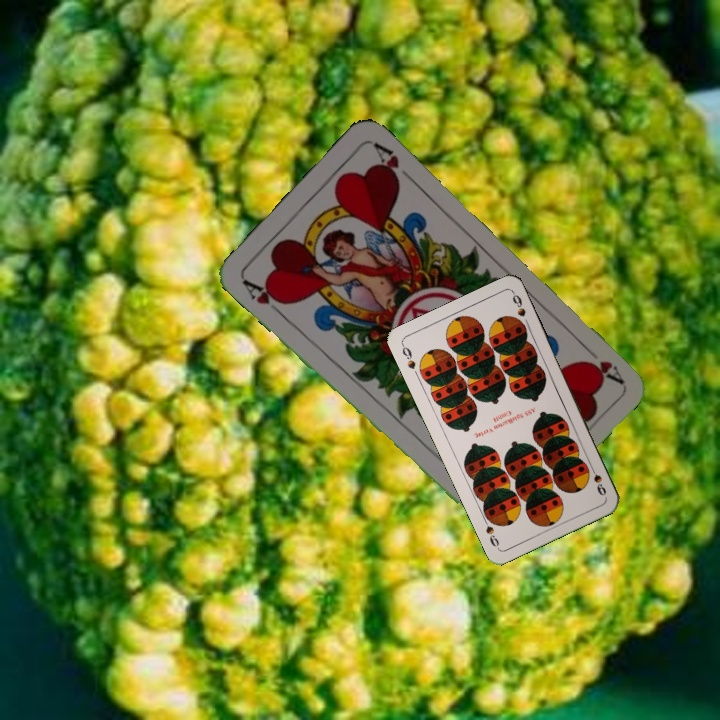HA: (238, 275, 289, 320), (578, 339, 625, 386)
S9: (586, 460, 609, 498), (397, 340, 418, 372)
